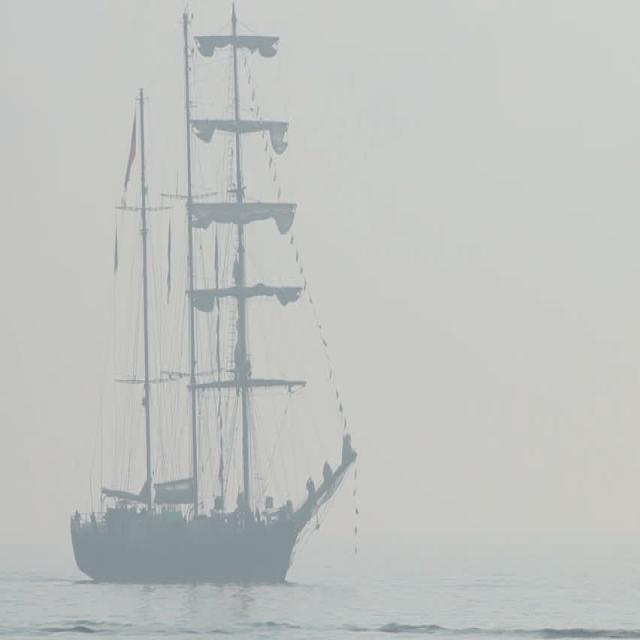fishing boat: (64, 28, 365, 589)
